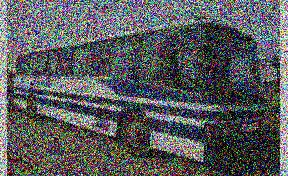bus: (13, 18, 267, 160)
